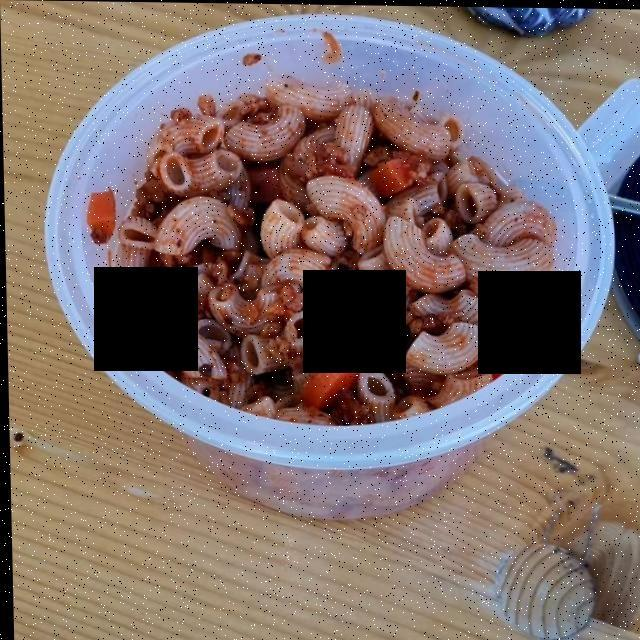bolognaise-sauce: (126, 129, 538, 437)
pasta: (111, 76, 544, 417)
